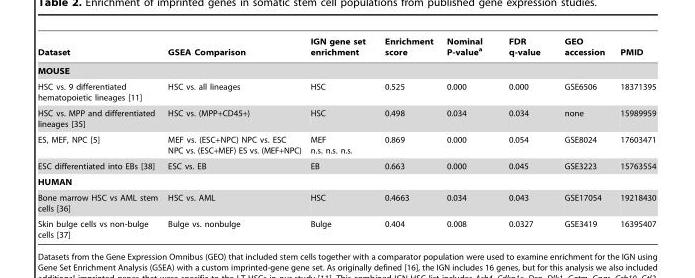table: (37, 36, 655, 238)
table column: (162, 36, 305, 238), (37, 36, 162, 238), (305, 36, 374, 238), (374, 36, 439, 238), (551, 36, 611, 238), (494, 36, 551, 238), (439, 36, 494, 238), (611, 36, 655, 238)
table column header: (37, 36, 655, 61)
table projected row header: (37, 61, 655, 78), (37, 173, 655, 189)
table row: (37, 130, 655, 158), (37, 189, 655, 216), (37, 78, 655, 104), (37, 104, 655, 130), (37, 36, 655, 61), (37, 216, 655, 238), (37, 61, 655, 78), (37, 173, 655, 189), (37, 158, 655, 173)
